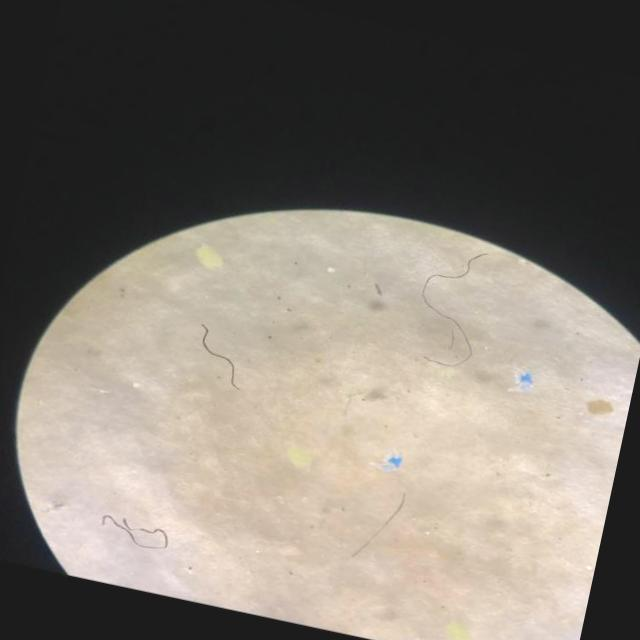fiber: (420, 252, 488, 366), (351, 493, 404, 555), (100, 514, 167, 550), (200, 324, 236, 387)
film: (512, 369, 532, 390), (379, 454, 400, 469)
fragment: (195, 245, 221, 268), (586, 398, 612, 415), (287, 446, 309, 466), (446, 621, 469, 640)
pellet: (326, 266, 333, 272), (133, 382, 138, 386)
